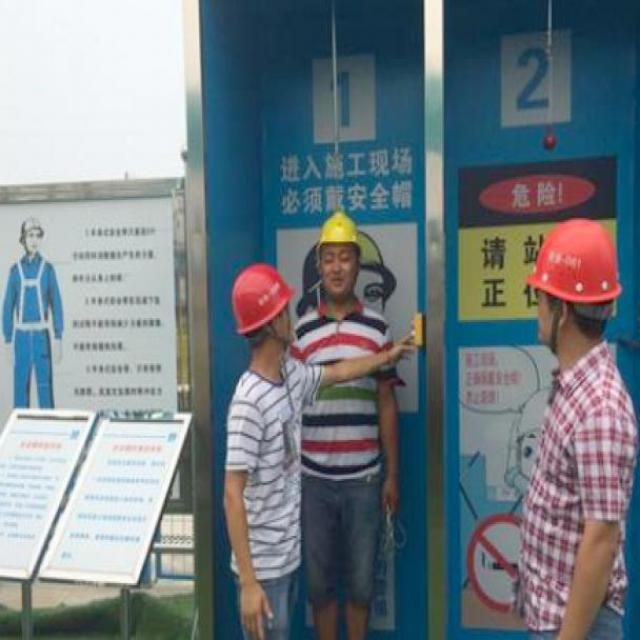helmet: (518, 224, 634, 346), (222, 265, 302, 355), (313, 212, 363, 303)
